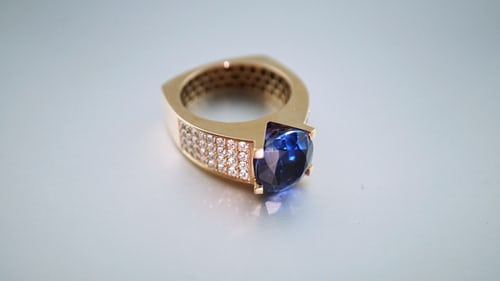ring: (153, 46, 330, 204)
